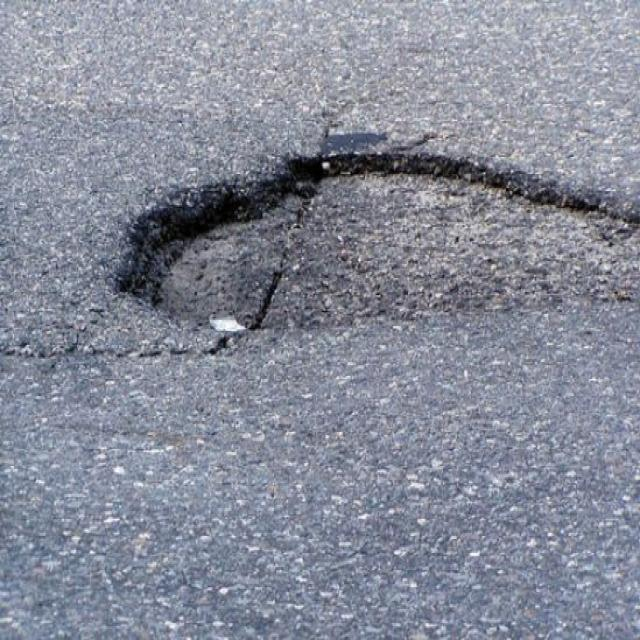Pothole: (106, 143, 640, 351)
